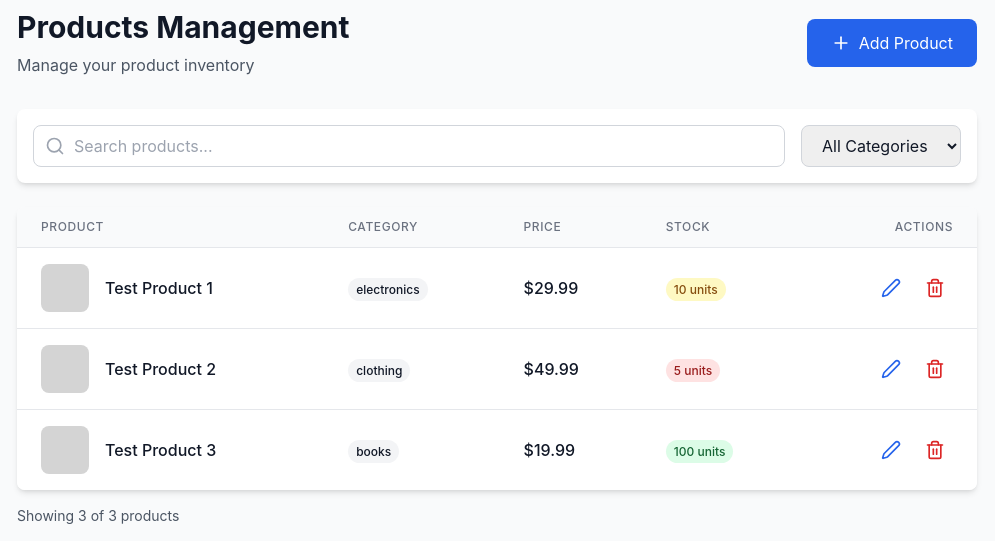
Test: AdminProducts › filters products by category
This screenshot has width=995, height=541.
Expected: the text "Test Product 1" is shown, [105,276,213,300]
Select "Electronics" in the dropdown at (881,146), box [801,125,961,167]
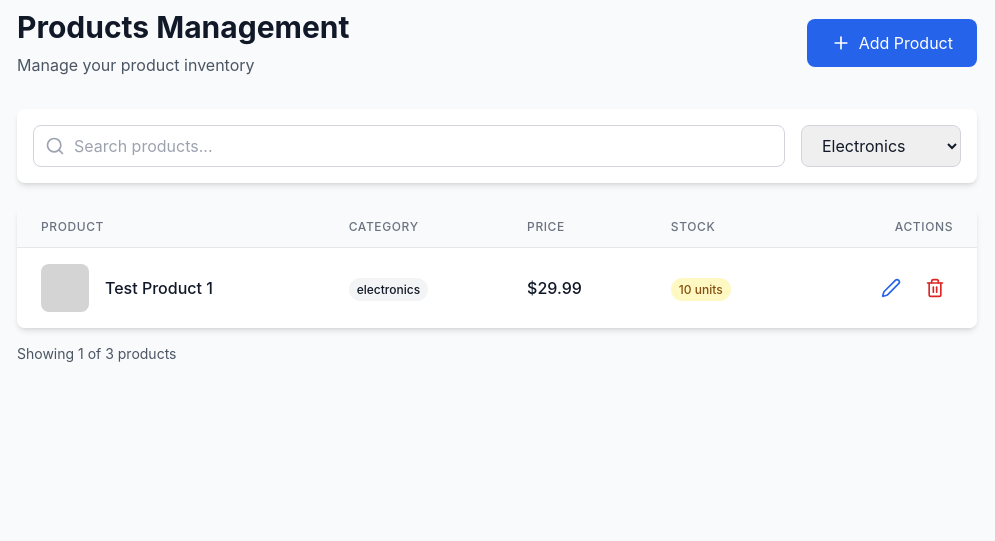
Expected: the text "Test Product 1" is shown, [105,276,213,300]
Expected: the text "Test Product 2" is gone
Expected: the text "Test Product 3" is gone
